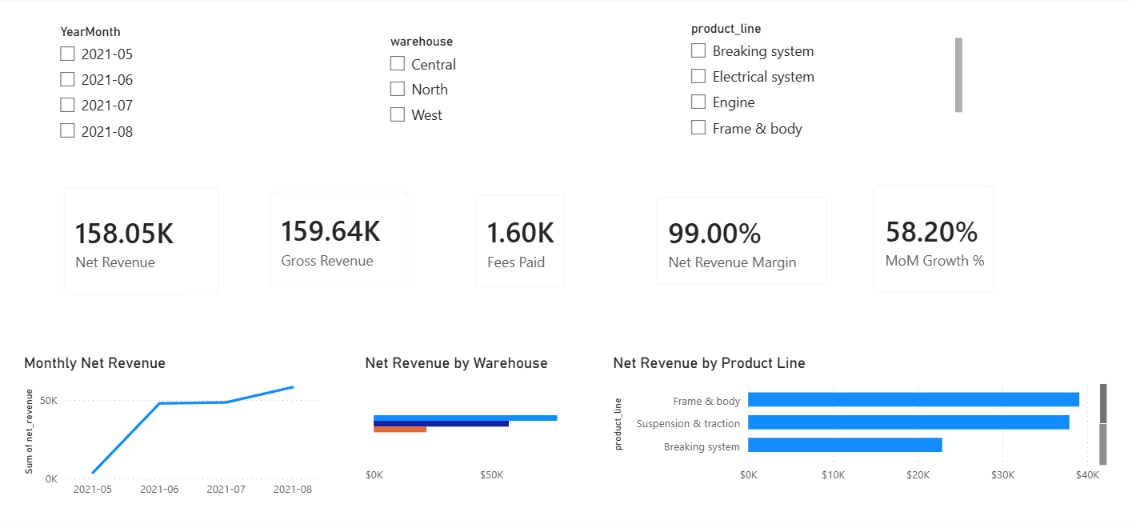

This screenshot's page, from the dashboard's own definition file:
{"tool":"powerbi","page":{"name":"Page 1","canvas":[1280,720],"ordinal":0},"visuals":[{"type":"slicer","fields":{"Values":["CalendarTable.YearMonth"]},"box":[57.5,25,279.9,172.9],"z":0},{"type":"slicer","fields":{"Values":["v_monthly_wholesale.warehouse"]},"box":[430,35.7,279.9,148],"z":1000},{"type":"slicer","fields":{"Values":["v_monthly_wholesale.product_line"]},"box":[770,21.4,324.3,150],"z":2000},{"type":"cardVisual","fields":{"Data":["CalendarTable.Net Revenue"]},"box":[57.5,197.5,210,155],"z":3000},{"type":"cardVisual","fields":{"Data":["CalendarTable.Gross Revenue"]},"box":[290,202.5,191.2,141.2],"z":4000},{"type":"cardVisual","fields":{"Data":["CalendarTable.Fees Paid"]},"box":[522.5,205,135.6,138.1],"z":5000},{"type":"cardVisual","fields":{"Data":["CalendarTable.Net Revenue Margin"]},"box":[727.5,207.5,227.6,134.3],"z":6000},{"type":"cardVisual","fields":{"Data":["CalendarTable.MoM Growth %"]},"box":[972.5,195,170.4,155.5],"z":7000},{"type":"lineChart","title":"Monthly Net Revenue","fields":{"Category":["CalendarTable.YearMonth"],"Y":["Sum(v_monthly_wholesale.net_revenue)"]},"box":[25,402.5,343.8,171.2],"z":8000},{"type":"clusteredBarChart","title":"Net Revenue by Warehouse","fields":{"Series":["v_monthly_wholesale.warehouse"],"Y":["CalendarTable.Net Revenue"]},"box":[410,402.5,246.2,155],"z":9000},{"type":"barChart","title":"Net Revenue by Product Line","fields":{"Category":["v_monthly_wholesale.product_line"],"Y":["CalendarTable.Net Revenue"]},"box":[690,402.5,567.5,155],"z":10000}]}

Visuals, with their boxes on the page's 1280x720 design canvas (x1, y1, x2, y2). These are canvas units, not pixel positions in the 1130x525 screenshot, which may show the page scaled, cropped or inside an application window:
slicer - CalendarTable.YearMonth: crop(58, 25, 337, 198)
slicer - v_monthly_wholesale.warehouse: crop(430, 36, 710, 184)
slicer - v_monthly_wholesale.product_line: crop(770, 21, 1094, 171)
cardVisual - CalendarTable.Net Revenue: crop(58, 198, 268, 352)
cardVisual - CalendarTable.Gross Revenue: crop(290, 202, 481, 344)
cardVisual - CalendarTable.Fees Paid: crop(522, 205, 658, 343)
cardVisual - CalendarTable.Net Revenue Margin: crop(728, 208, 955, 342)
cardVisual - CalendarTable.MoM Growth %: crop(972, 195, 1143, 350)
"Monthly Net Revenue" lineChart: crop(25, 402, 369, 574)
"Net Revenue by Warehouse" clusteredBarChart: crop(410, 402, 656, 558)
"Net Revenue by Product Line" barChart: crop(690, 402, 1258, 558)
